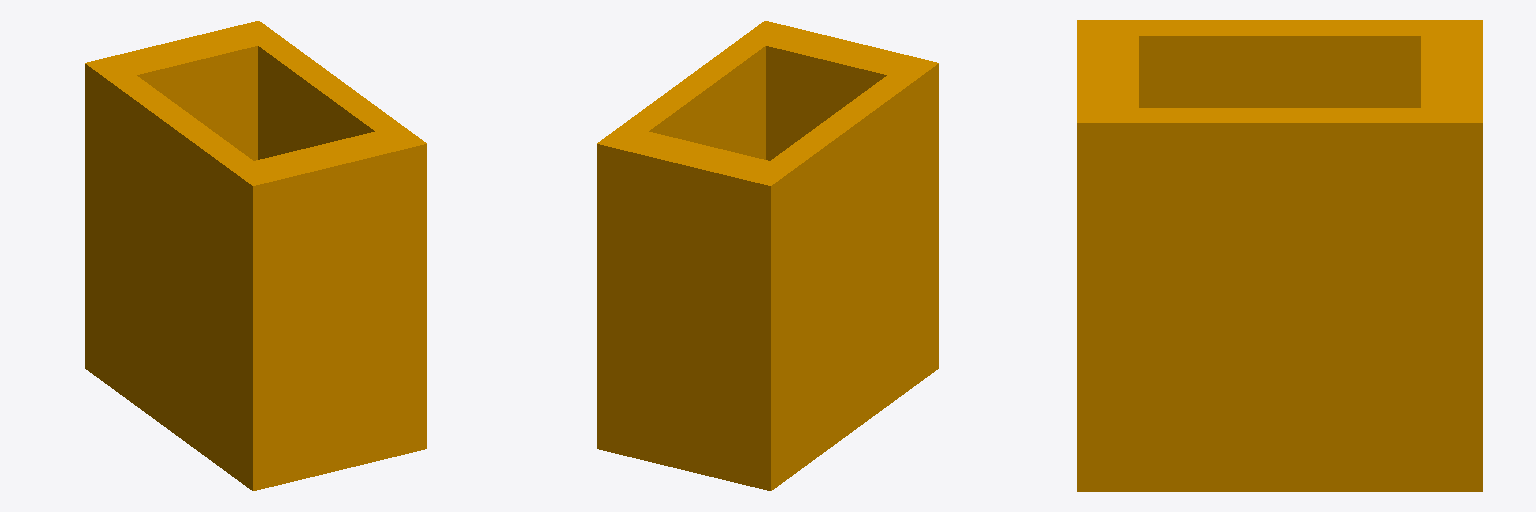
The robot description file, URDF, robot "candy_container_model":
<robot name="candy_container_model">
  <link name="candy_container">
    <inertial>
      <mass value="3.0" />
      <!-- center of mass (com) is defined w.r.t. link local coordinate system -->
      <origin xyz="0 0 0.10" /> 
      <inertia  ixx="0.01" ixy="0.0"  ixz="0.0"  iyy="0.01"  iyz="0.0"  izz="0.01" />
    </inertial>
    <visual>
      <!-- visual origin is defined w.r.t. link local coordinate system -->
      <origin xyz="0 0 0" rpy="0 0 0" />
      <geometry>
        <mesh filename="package://manipulation_worlds/meshes/trash_bin.dae" scale=".3 .3 .3" />
      </geometry>
    </visual>
    <collision>
      <!-- collision origin is defined w.r.t. link local coordinate system -->
      <origin xyz="0 0 0" rpy="0 0 0" />
      <geometry>
        <mesh filename="package://manipulation_worlds/meshes/trash_bin.dae" scale=".3 .3 .3" />
      </geometry>
    </collision>
  </link>
  <gazebo reference="candy_container">
    <material>Gazebo/Blue</material>
    <turnGravityOff>false</turnGravityOff>
    <genTexCoord>true</genTexCoord>
    <kp>100000000.0</kp>
    <kd>1000000.0</kd>
  </gazebo>
</robot>

--- Facts derived from the render (not from the file) ---
The picture shows the robot from 3 angles, left to right: view 1: azimuth 30°, elevation 25°; view 2: azimuth 150°, elevation 25°; view 3: azimuth 270°, elevation 25°; orthographic projection.
Robot: candy_container_model — 1 links, 0 joints (none); root link candy_container; default pose: every joint at zero.
Links seen in each view (by area): view 1: candy_container; view 2: candy_container; view 3: candy_container.
Boxes of the visible links, x1,y1,x2,y2 form: candy_container: (85,21,426,490); candy_container: (597,21,938,490); candy_container: (1077,20,1482,491).
Bounding box of the posed robot: 0.1213 × 0.2028 × 0.2028 m (x, y, z).
Meshes: 1 distinct files referenced, 1 mesh visuals loaded (1 Collada DAE).